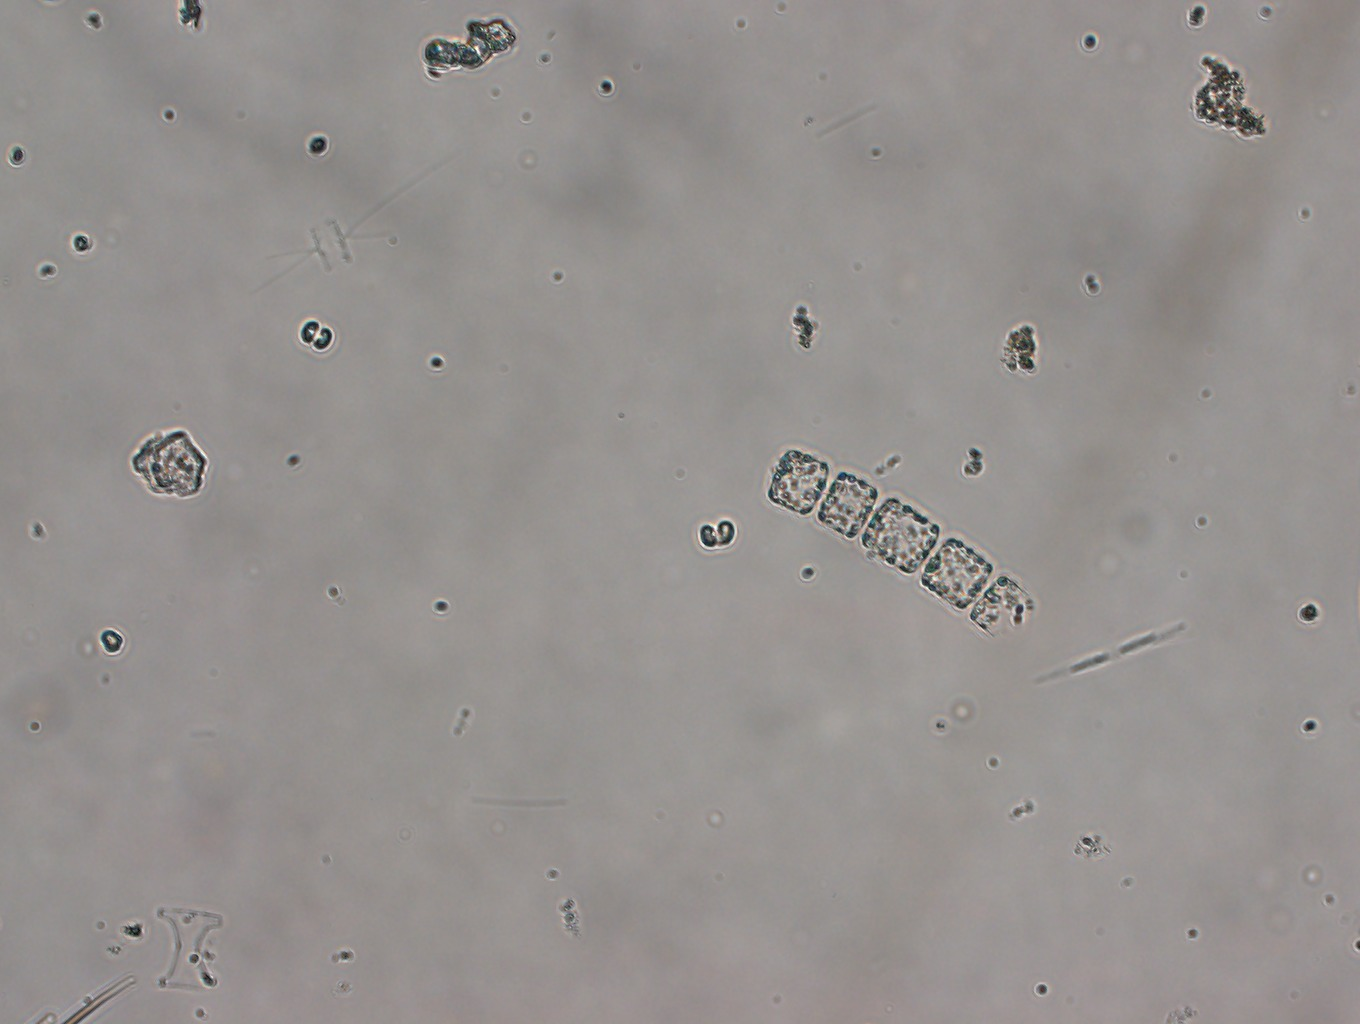chaetoceros: (229, 131, 473, 305)
detonula pumila: (756, 433, 1040, 636)
